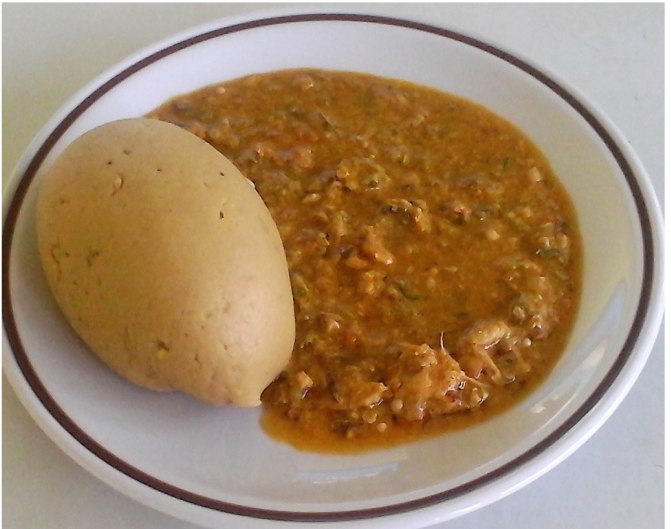foutou banane plantain: (77, 172, 241, 358)
poisson: (412, 336, 493, 404)
sauce gombo: (367, 91, 521, 405)
